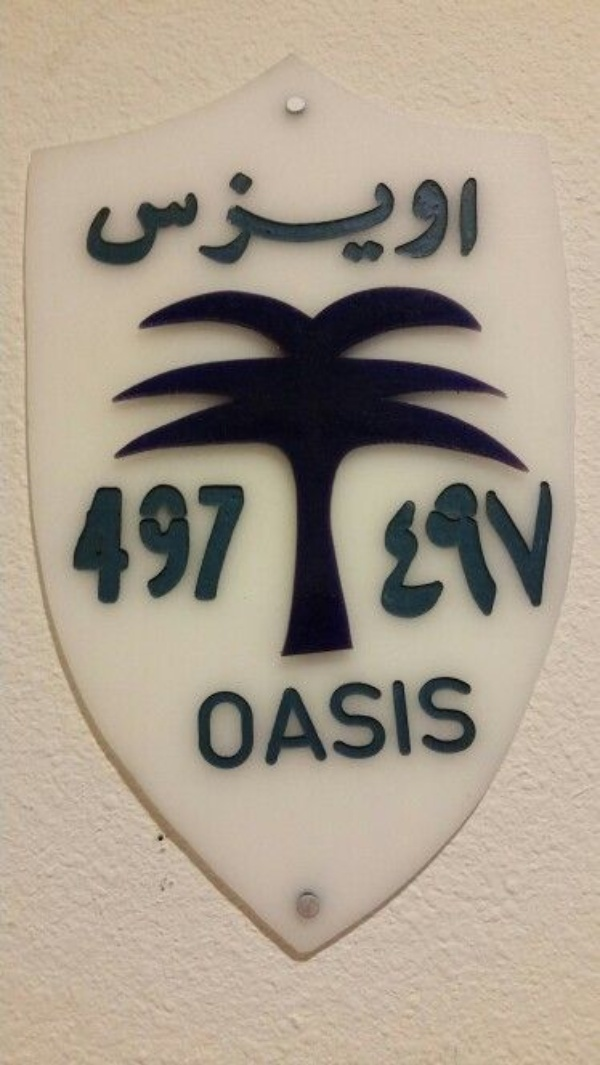text: (385, 470, 400, 629), (401, 470, 416, 629), (417, 470, 432, 629), (433, 470, 448, 629), (449, 470, 464, 629), (465, 470, 480, 629), (481, 470, 496, 629), (497, 470, 512, 629), (513, 470, 528, 629), (529, 470, 544, 629), (545, 470, 560, 629), (371, 470, 384, 629), (81, 480, 96, 605), (97, 480, 112, 605), (113, 480, 128, 605), (129, 480, 144, 605), (145, 480, 160, 605), (161, 480, 176, 605), (177, 480, 192, 605), (193, 480, 208, 605), (209, 480, 224, 605), (225, 480, 240, 605), (66, 480, 80, 605), (241, 480, 254, 605), (97, 174, 112, 278), (113, 174, 128, 278), (129, 174, 144, 278), (145, 174, 160, 278), (161, 174, 176, 278), (177, 174, 192, 278), (193, 174, 208, 278), (209, 174, 224, 278), (225, 174, 240, 278), (241, 174, 256, 278), (257, 174, 272, 278), (273, 174, 288, 278), (289, 174, 304, 278), (305, 174, 320, 278), (321, 174, 336, 278), (337, 174, 352, 278), (353, 174, 368, 278), (369, 174, 384, 278), (385, 174, 400, 278), (401, 174, 416, 278), (417, 174, 432, 278), (433, 174, 448, 278), (449, 174, 464, 278), (465, 174, 480, 278), (193, 671, 208, 772), (209, 671, 224, 772), (225, 671, 240, 772), (241, 671, 256, 772), (257, 671, 272, 772), (273, 671, 288, 772), (289, 671, 304, 772), (305, 671, 320, 772), (321, 671, 336, 772), (337, 671, 352, 772), (353, 671, 368, 772), (369, 671, 384, 772), (385, 671, 400, 772), (401, 671, 416, 772), (417, 671, 432, 772), (433, 671, 448, 772), (449, 671, 464, 772), (465, 671, 480, 772), (82, 174, 96, 278), (481, 174, 483, 278), (481, 671, 483, 772), (561, 470, 562, 629)
